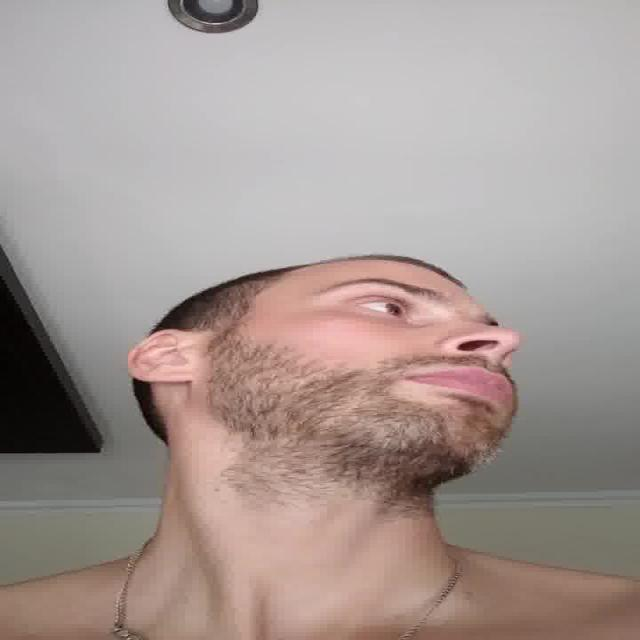earlobe: (127, 328, 197, 384)
